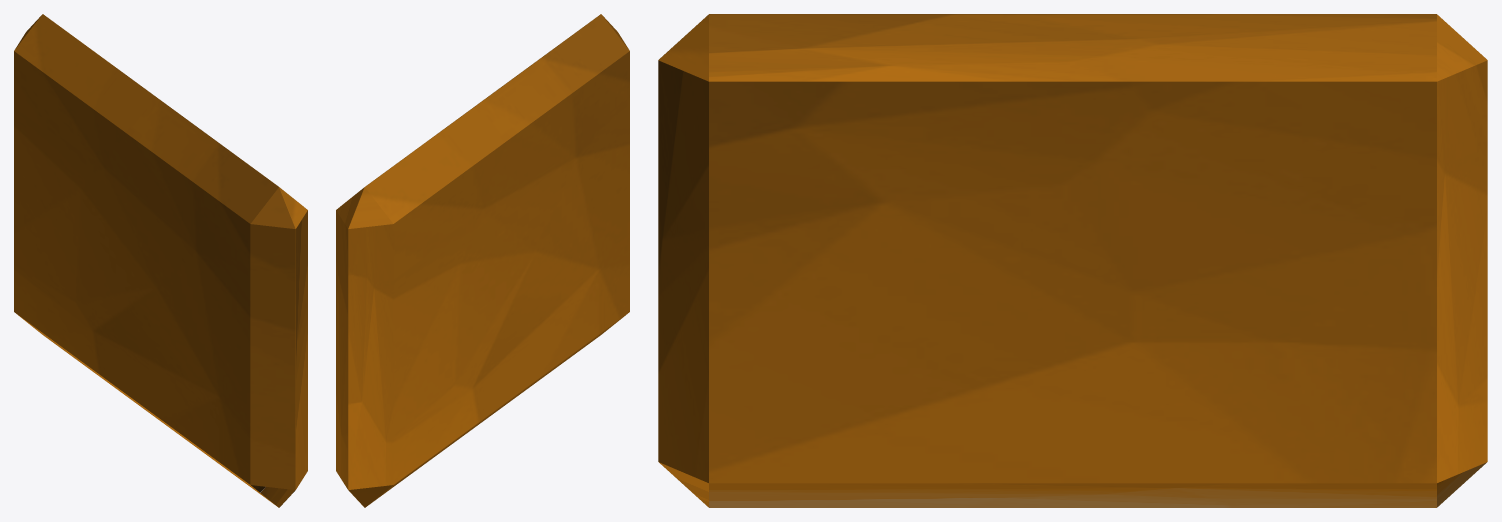
File: wallFall3.fbx
3 views of the same model, side by side, from view 1: azimuth 30°, elevation 25°; view 2: azimuth 150°, elevation 25°; view 3: azimuth 270°, elevation 25° (orthographic). The views are drawn at different scales.
Visible parts, largest first — view 1: Cube; view 2: Cube; view 3: Cube.
Part boxes in pixels (left/top/right/bottom): Cube: left=14, top=14, right=307, bottom=507; Cube: left=336, top=14, right=629, bottom=507; Cube: left=658, top=14, right=1487, bottom=507.
Size of the model in its own units: 0.5447 by 2.9 by 4.42.
1 material, 1 textured.
